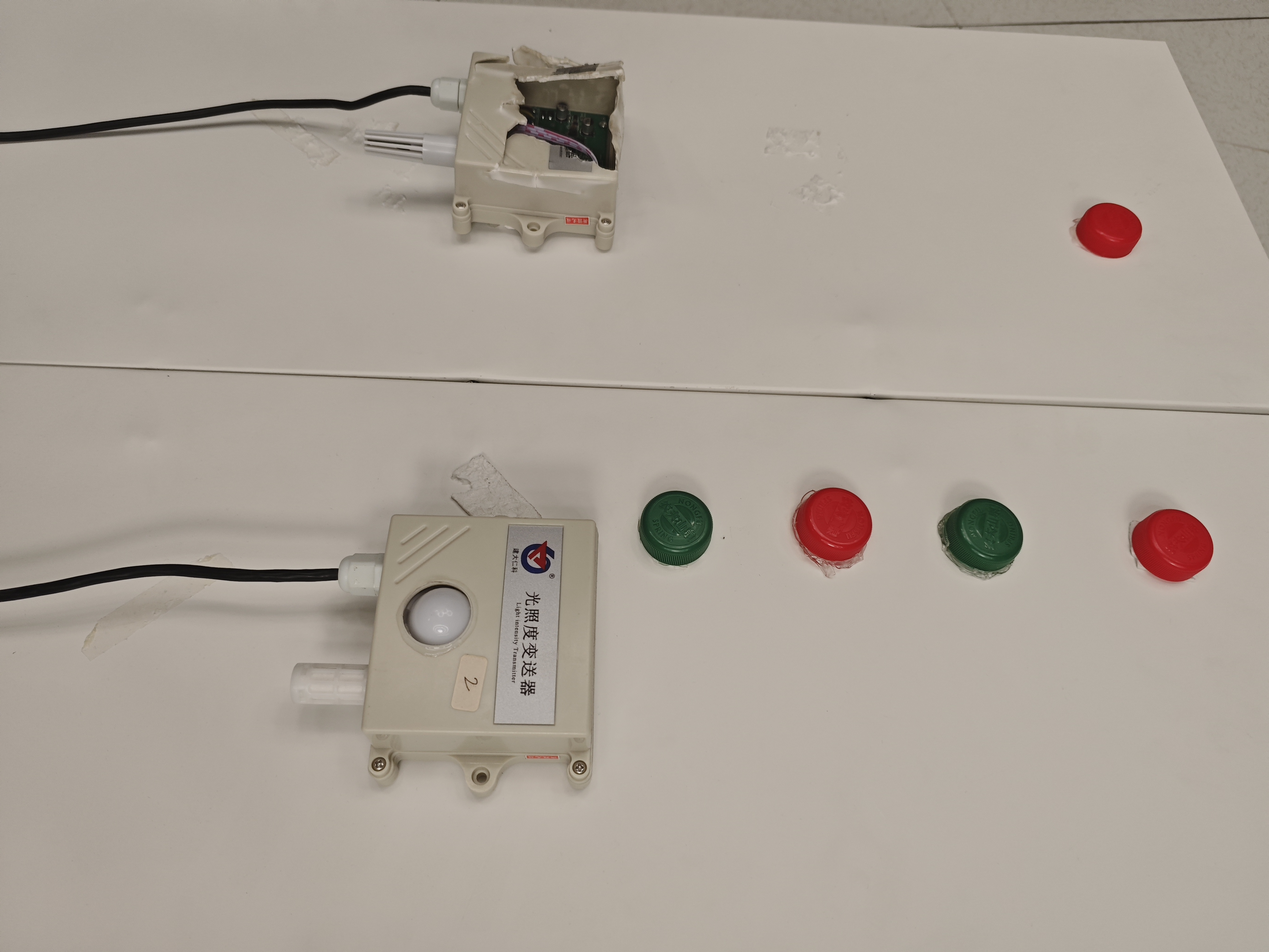red_warning: (774, 464, 942, 605), (1105, 484, 1240, 614), (1055, 189, 1165, 300)
sensor_damage: (328, 20, 672, 281)
